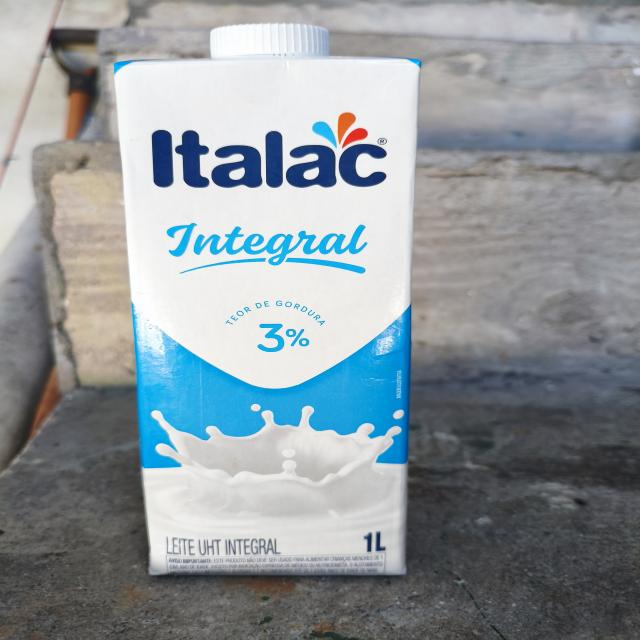Caixa de Leite: (98, 16, 429, 582)
